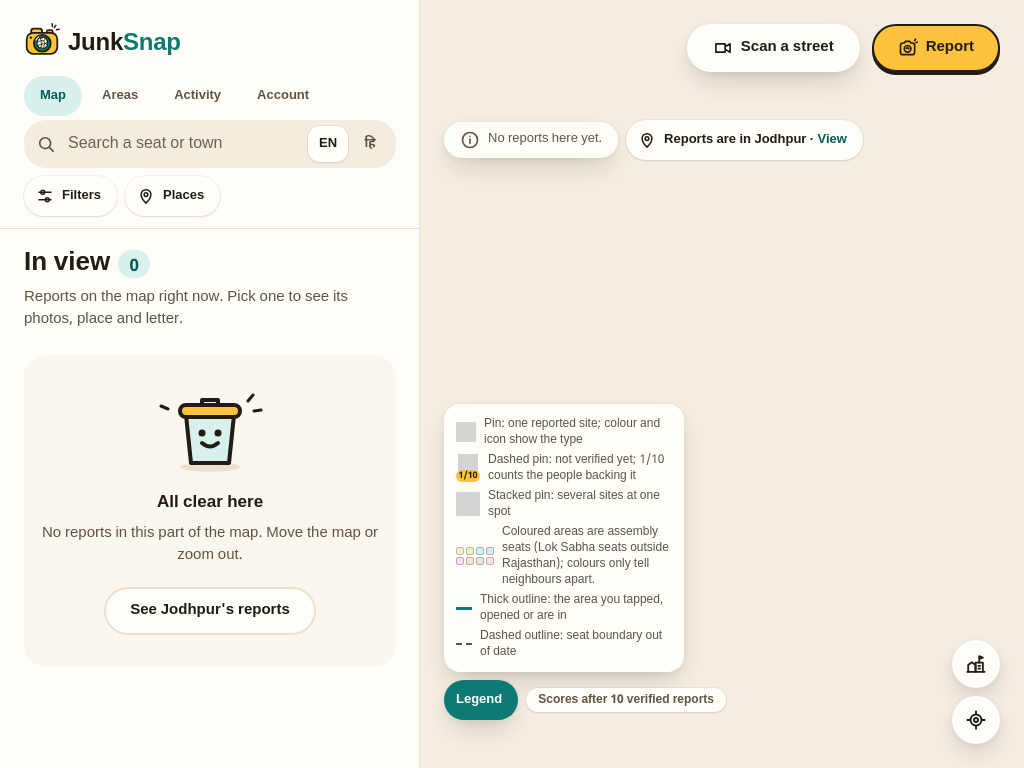
it: Places with reports when the area list fails › lists the pilot city before any count has arrived
The width and height of the screenshot is (1024, 768).
Click the button with aria-label "Places with reports".
click(173, 196)  # box [125,176,220,216]
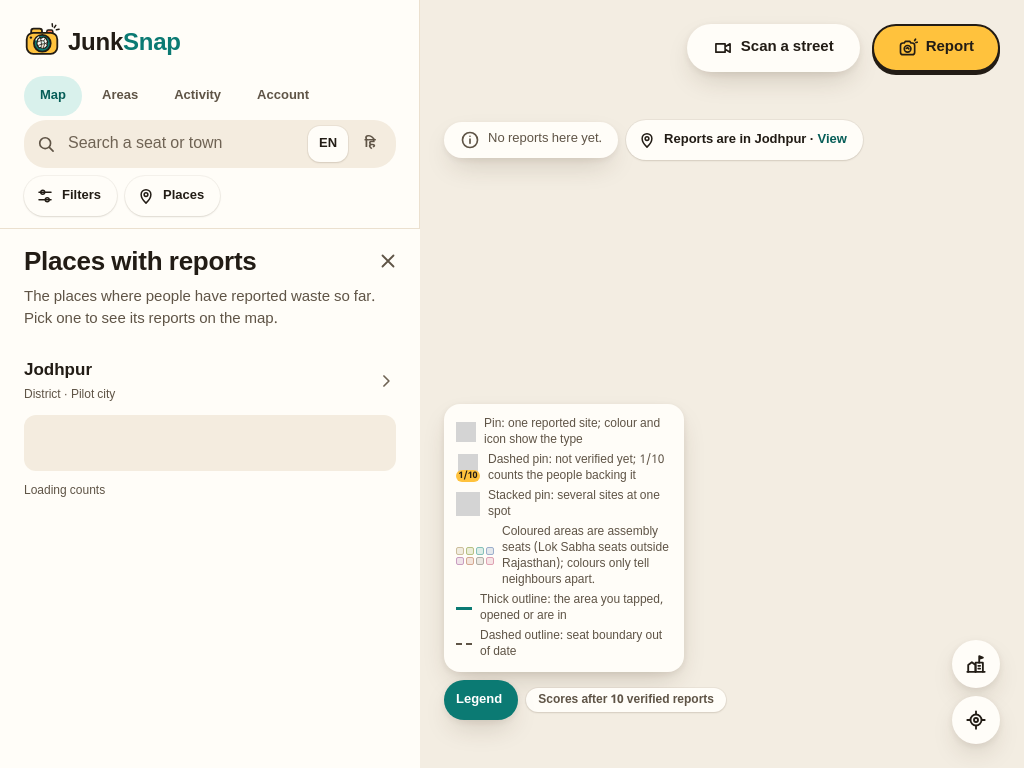
Now the message "Loading counts" is shown, box [24,483,105,499]
